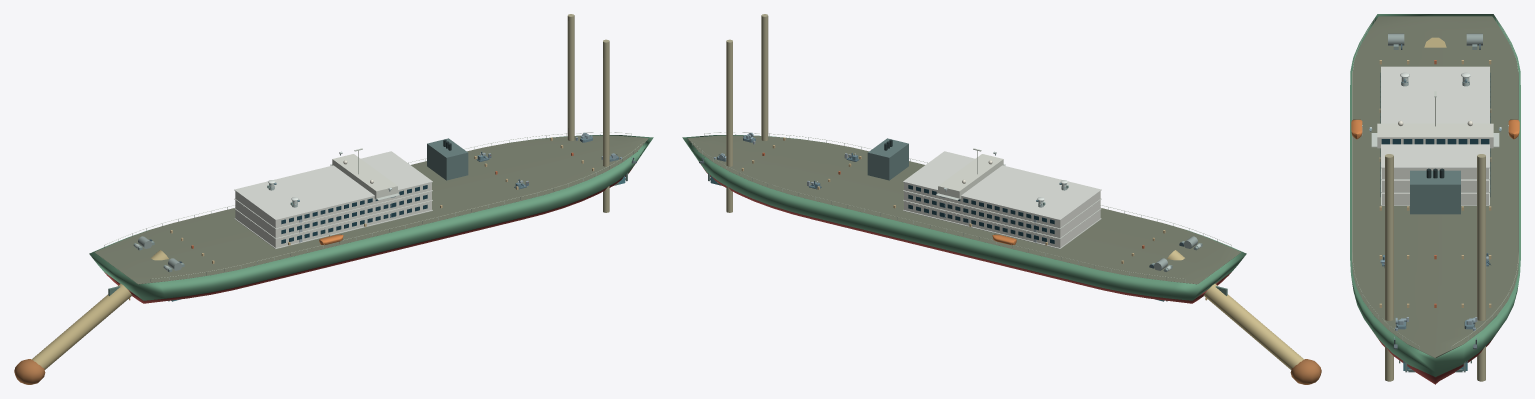
File: spartacus.lod0.glb
The picture shows the model from 3 angles, left to right: view 1: azimuth 30°, elevation 25°; view 2: azimuth 150°, elevation 25°; view 3: azimuth 270°, elevation 25°; orthographic projection. The views are drawn at different scales.
Visible parts, largest first — view 1: spartacus.structure.decks.main-strength-deck.1, spartacus.structure.hull.outer-hull-shell.1, spartacus.accommodation.superstructure.superstructure-weathe, spartacus.cargo.cutter-ladder.cutter-ladder.1, spartacus.accommodation.superstructure.deck-2-enclosure.1, spartacus.accommodation.superstructure.deck-1-enclosure.1, spartacus.structure.hull.antifouling-underwater-shell.1, spartacus.navigation.bridge.wheelhouse.1, spartacus.propulsion.exhaust.exhaust-casing.1, spartacus.accommodation.superstructure.deck-3-enclosure.1, spartacus.cargo.spuds.spud-1.2, spartacus.cargo.spuds.spud-1.1 (+1 smaller); view 2: spartacus.structure.decks.main-strength-deck.1, spartacus.structure.hull.outer-hull-shell.1, spartacus.accommodation.superstructure.superstructure-weathe, spartacus.cargo.cutter-ladder.cutter-ladder.1, spartacus.accommodation.superstructure.deck-2-enclosure.1, spartacus.accommodation.superstructure.deck-1-enclosure.1, spartacus.structure.hull.antifouling-underwater-shell.1, spartacus.navigation.bridge.wheelhouse.1, spartacus.propulsion.exhaust.exhaust-casing.1, spartacus.accommodation.superstructure.deck-3-enclosure.1, spartacus.cargo.spuds.spud-1.1, spartacus.cargo.spuds.spud-1.2 (+1 smaller); view 3: spartacus.structure.decks.main-strength-deck.1, spartacus.accommodation.superstructure.superstructure-weathe, spartacus.structure.hull.outer-hull-shell.1, spartacus.propulsion.exhaust.exhaust-casing.1, spartacus.navigation.bridge.wheelhouse.1, spartacus.cargo.spuds.spud-1.1, spartacus.cargo.spuds.spud-1.2, spartacus.accommodation.superstructure.deck-3-enclosure.1, spartacus.accommodation.superstructure.deck-1-enclosure.1, spartacus.accommodation.superstructure.deck-2-enclosure.1, spartacus.structure.hull.antifouling-underwater-shell.1, spartacus.mooring.aft-mooring.port-aft-mooring-winch.1 (+4 smaller).
Part boxes in pixels (x1,y1,x2,y2): spartacus.structure.decks.main-strength-deck.1: [95, 135, 648, 284]; spartacus.structure.hull.outer-hull-shell.1: [89, 135, 653, 300]; spartacus.accommodation.superstructure.superstructure-weathe: [234, 151, 432, 220]; spartacus.cargo.cutter-ladder.cutter-ladder.1: [32, 250, 168, 369]; spartacus.accommodation.superstructure.deck-2-enclosure.1: [235, 191, 431, 237]; spartacus.accommodation.superstructure.deck-1-enclosure.1: [235, 201, 431, 247]; spartacus.structure.hull.antifouling-underwater-shell.1: [104, 165, 634, 303]; spartacus.navigation.bridge.wheelhouse.1: [332, 154, 397, 199]; spartacus.propulsion.exhaust.exhaust-casing.1: [427, 138, 468, 180]; spartacus.accommodation.superstructure.deck-3-enclosure.1: [235, 182, 431, 228]; spartacus.cargo.spuds.spud-1.2: [603, 39, 609, 212]; spartacus.cargo.spuds.spud-1.1: [567, 14, 574, 140]; spartacus.structure.decks.main-strength-deck.1: [687, 135, 1240, 284]; spartacus.structure.hull.outer-hull-shell.1: [682, 135, 1246, 300]; spartacus.accommodation.superstructure.superstructure-weathe: [903, 151, 1101, 220]; spartacus.cargo.cutter-ladder.cutter-ladder.1: [1167, 250, 1303, 369]; spartacus.accommodation.superstructure.deck-2-enclosure.1: [904, 191, 1100, 237]; spartacus.accommodation.superstructure.deck-1-enclosure.1: [904, 201, 1100, 247]; spartacus.structure.hull.antifouling-underwater-shell.1: [701, 165, 1231, 303]; spartacus.navigation.bridge.wheelhouse.1: [938, 154, 1003, 199]; spartacus.propulsion.exhaust.exhaust-casing.1: [867, 138, 908, 180]; spartacus.accommodation.superstructure.deck-3-enclosure.1: [904, 182, 1100, 228]; spartacus.cargo.spuds.spud-1.1: [726, 39, 732, 212]; spartacus.cargo.spuds.spud-1.2: [761, 14, 768, 140]; spartacus.structure.decks.main-strength-deck.1: [1352, 16, 1518, 358]; spartacus.accommodation.superstructure.superstructure-weathe: [1381, 66, 1489, 168]; spartacus.structure.hull.outer-hull-shell.1: [1350, 14, 1520, 376]; spartacus.propulsion.exhaust.exhaust-casing.1: [1410, 170, 1460, 214]; spartacus.navigation.bridge.wheelhouse.1: [1377, 123, 1493, 148]; spartacus.cargo.spuds.spud-1.1: [1477, 154, 1485, 381]; spartacus.cargo.spuds.spud-1.2: [1385, 154, 1393, 381]; spartacus.accommodation.superstructure.deck-3-enclosure.1: [1382, 168, 1488, 178]; spartacus.accommodation.superstructure.deck-1-enclosure.1: [1382, 193, 1488, 204]; spartacus.accommodation.superstructure.deck-2-enclosure.1: [1382, 180, 1488, 191]; spartacus.structure.hull.antifouling-underwater-shell.1: [1376, 336, 1494, 384]; spartacus.mooring.aft-mooring.port-aft-mooring-winch.1: [1466, 33, 1482, 45].
Bounding box in the file's own units: 193 × 63.16 × 34.
